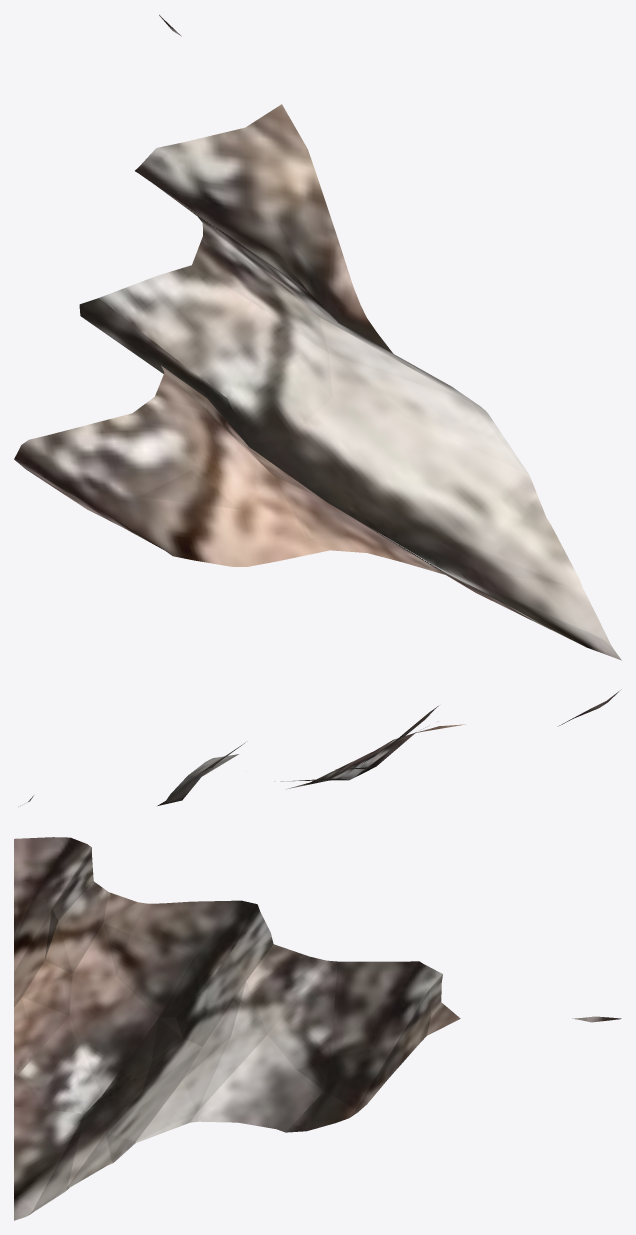
The picture shows the model from 3 angles, top to bottom: view 1: azimuth 30°, elevation 25°; view 2: azimuth 150°, elevation 25°; view 3: azimuth 270°, elevation 25°; orthographic projection. The views are drawn at different scales.
Size of the model in its own units: 0.3919 by 0.2034 by 0.5545.
1 material, 1 textured.
